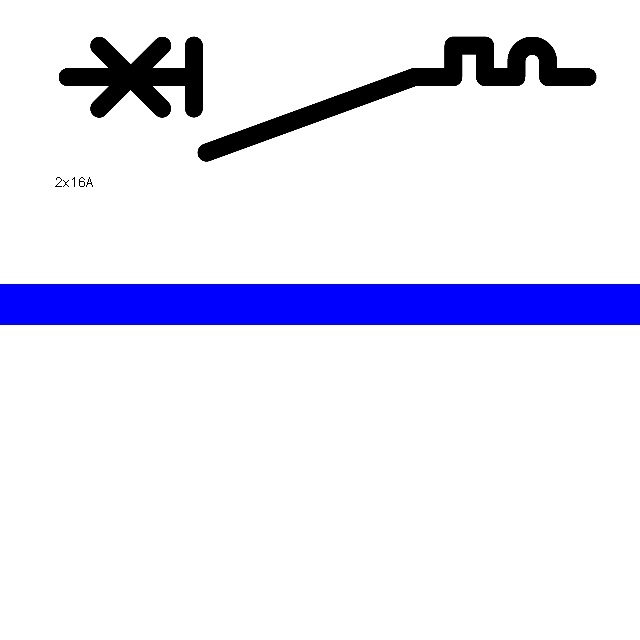interruptor_termomagnetico: (54, 32, 601, 166)
